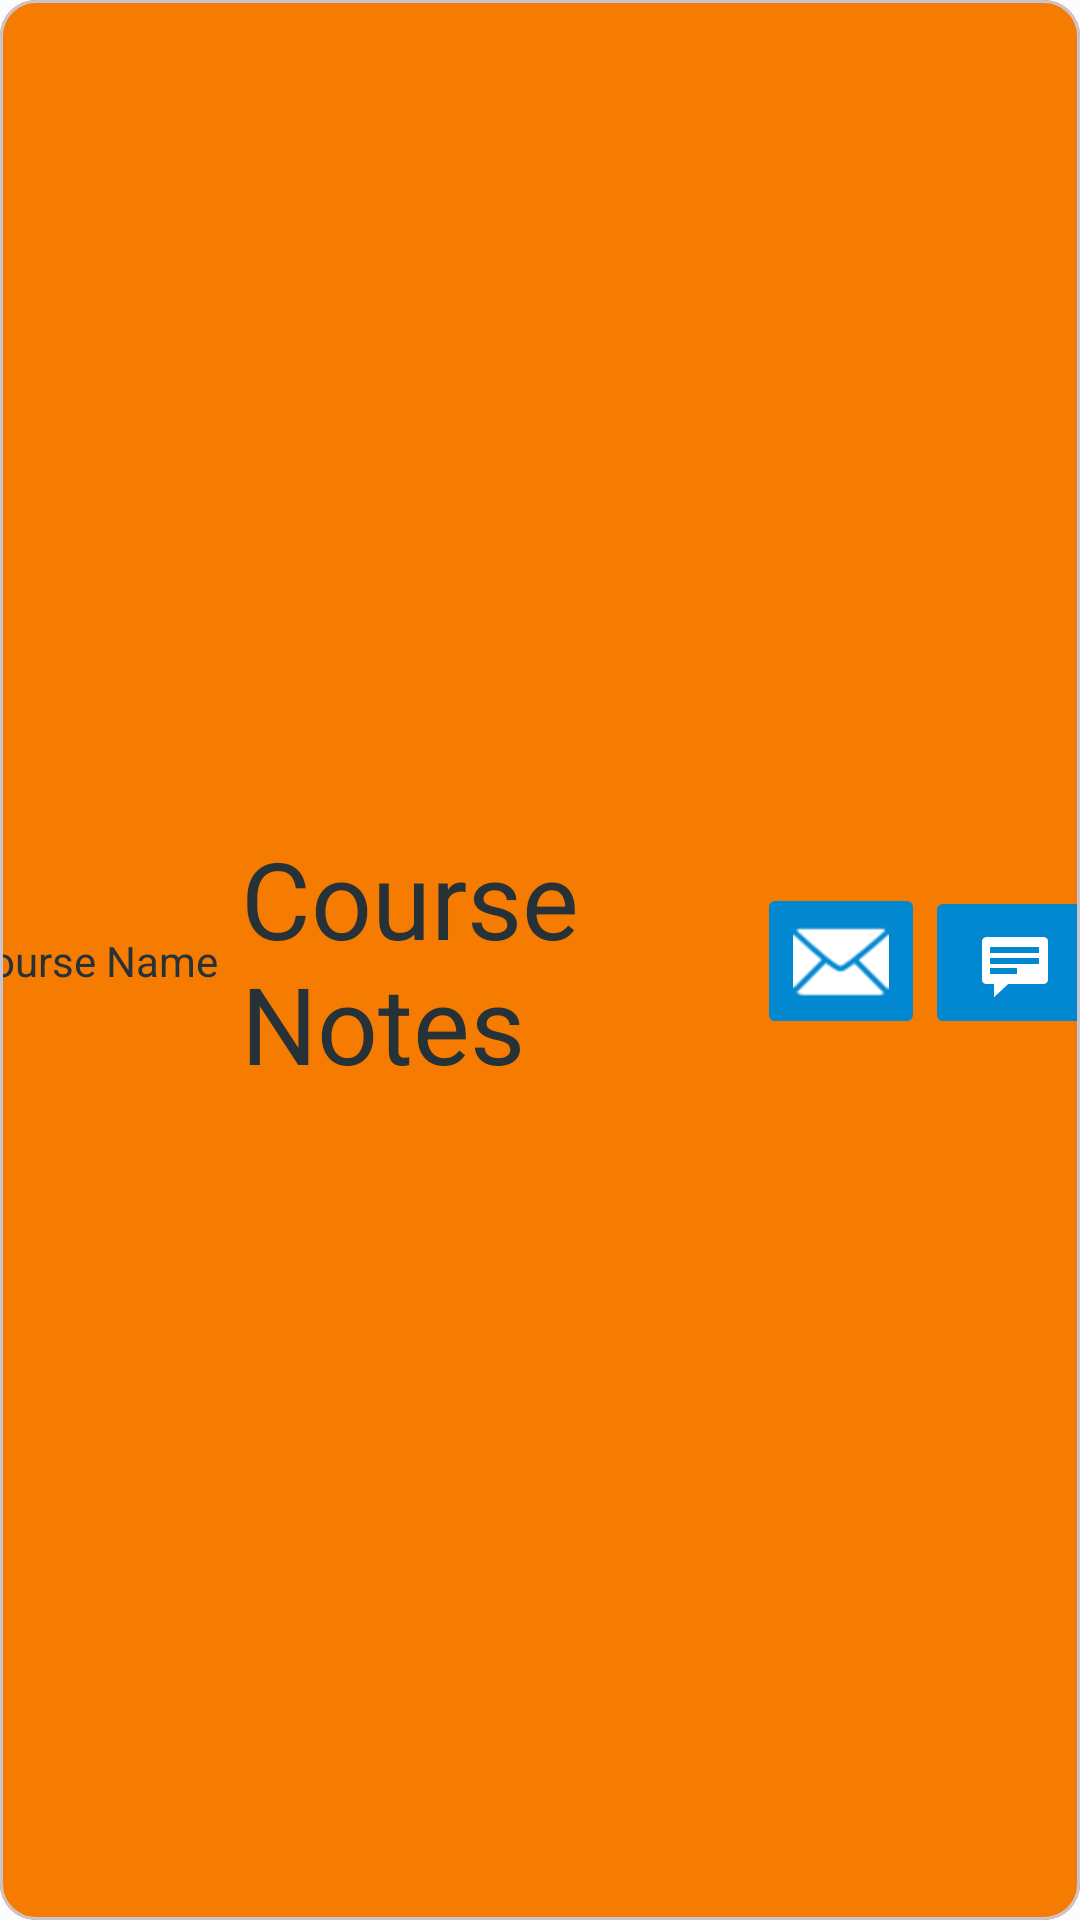

Icons on this 1080*1920 Android screen, each with the point to tap as (x=x, y=y):
Send Course Note By Email Button: (x=841, y=961)
